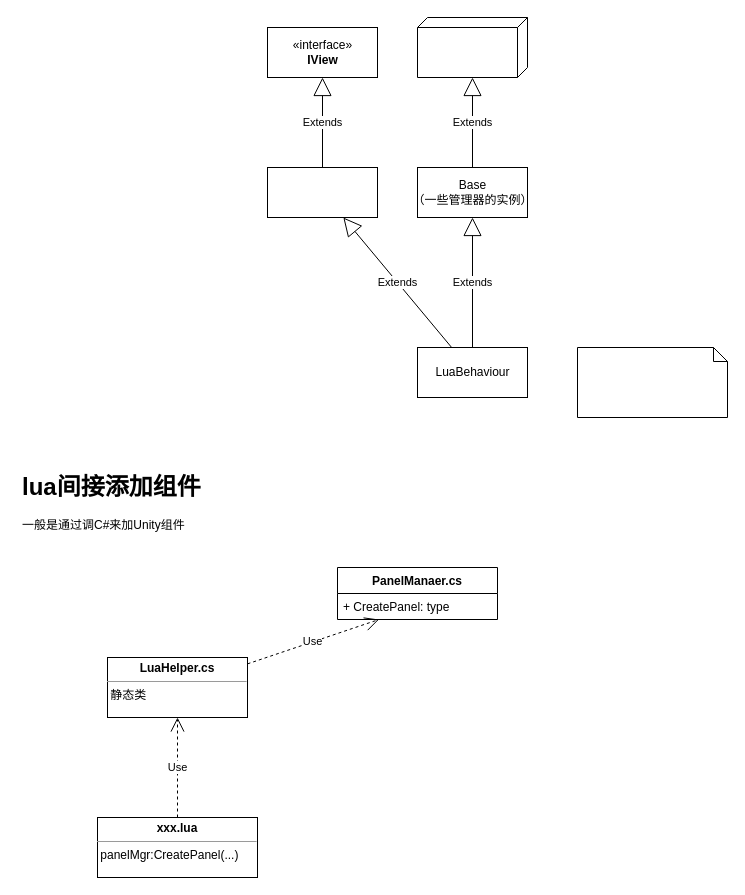
This 745x895 diagram has some shape labels left out. The centre of each missing label's shape, as x and y in pixels:
"MonoBehaviour" goes at point 472,47.
"View" goes at point 322,192.
"这个框架是用 字典来保存LuaFunction， 网上那些就是直接定义的" goes at point 652,382.
